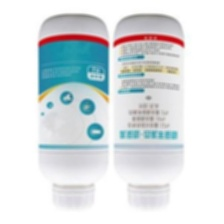insecticide: (109, 10, 186, 216), (34, 10, 111, 212)
